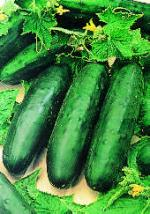cucumber: (45, 59, 109, 190), (83, 61, 145, 192), (1, 65, 72, 179)
